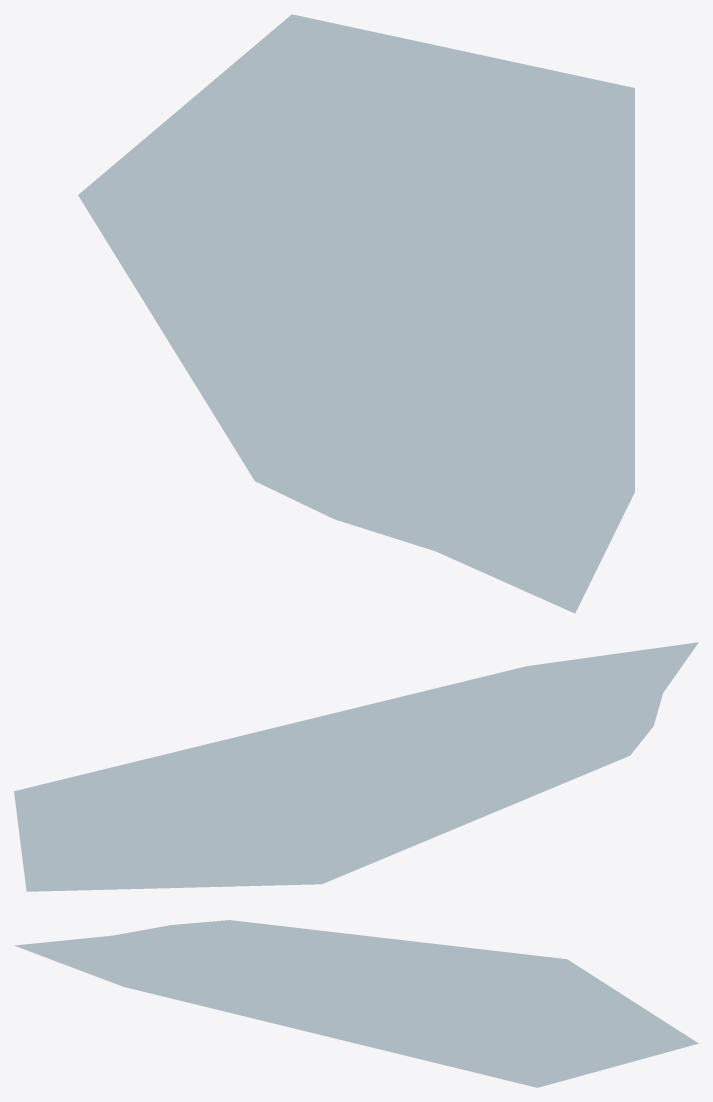
File: suelo_nieve_p1.fbx
3 views of the same model, one above another, from view 1: azimuth 30°, elevation 25°; view 2: azimuth 150°, elevation 25°; view 3: azimuth 270°, elevation 25° (orthographic). The views are drawn at different scales.
Visible parts, largest first — view 1: Cylinder003; view 2: Cylinder003; view 3: Cylinder003.
Part boxes in pixels (bbox=[...]): Cylinder003: bbox=[78, 14, 634, 613]; Cylinder003: bbox=[14, 642, 698, 891]; Cylinder003: bbox=[14, 920, 698, 1087].
Bounding box in the file's own units: 18.07 × 1.91e-06 × 31.17.
